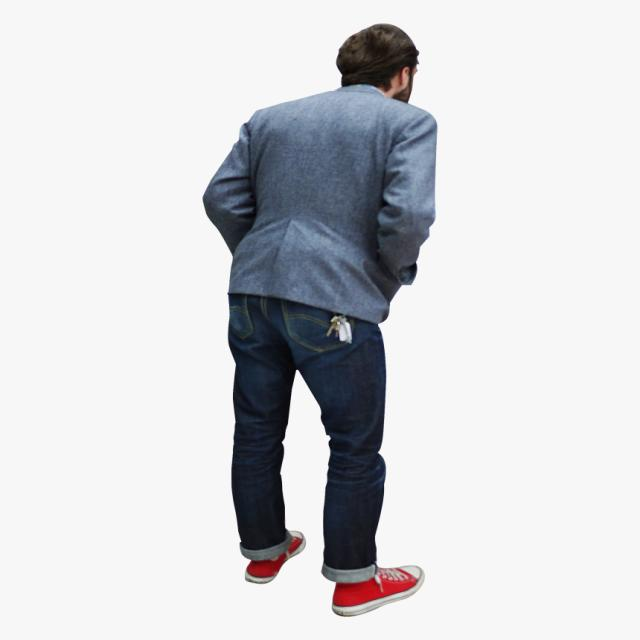adult: (204, 21, 436, 620)
